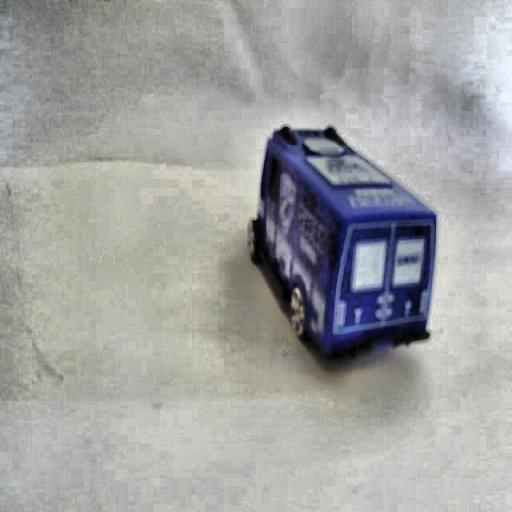police car: (246, 115, 441, 375)
